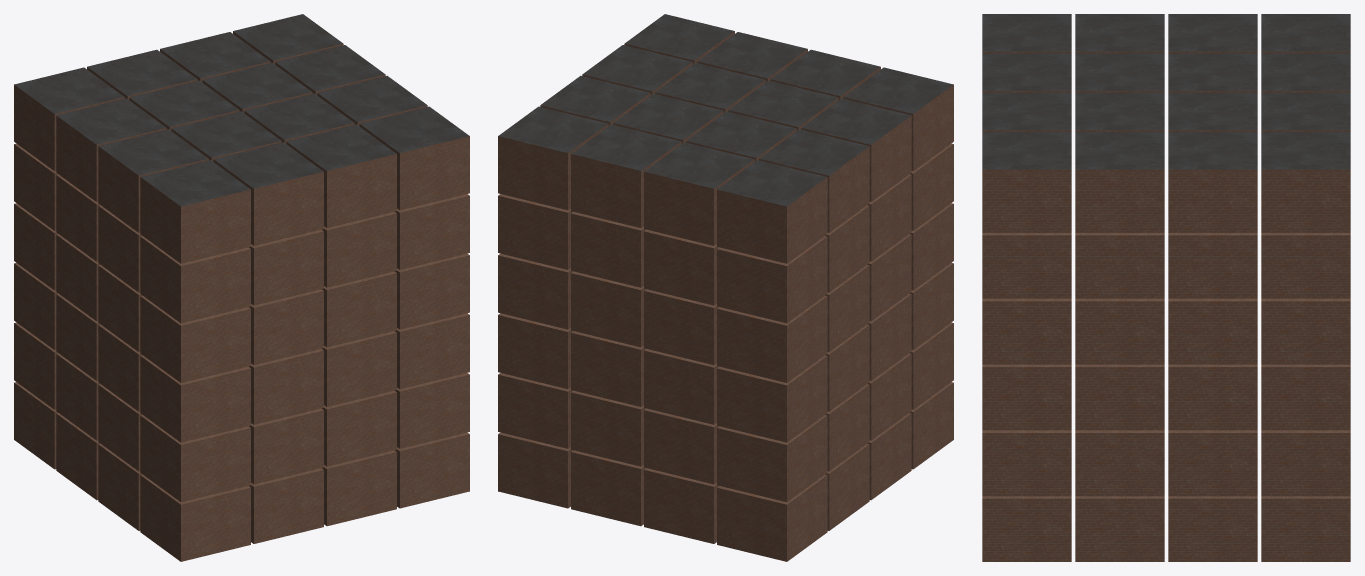
Rendered from Building_Small_1_destructible.gltf.
3 renders of one model, left to right at view 1: azimuth 30°, elevation 25°; view 2: azimuth 150°, elevation 25°; view 3: azimuth 270°, elevation 25°, orthographic. The views are drawn at different scales.
Parts seen in each view (by area): view 1: block_f5_r3_c0, block_f5_r3_c1, block_f5_r3_c2, block_f5_r3_c3, block_f4_r3_c0, block_f2_r3_c0, block_f0_r3_c0, block_f1_r3_c0, block_f3_r3_c0, block_f5_r1_c0, block_f5_r0_c0, block_f5_r2_c0 (+39 smaller); view 2: block_f5_r0_c0, block_f5_r0_c1, block_f5_r0_c2, block_f5_r0_c3, block_f4_r0_c0, block_f2_r0_c0, block_f0_r0_c0, block_f1_r0_c0, block_f3_r0_c0, block_f5_r2_c0, block_f5_r1_c0, block_f5_r3_c0 (+39 smaller); view 3: block_f5_r0_c3, block_f5_r1_c3, block_f5_r2_c3, block_f5_r3_c3, block_f1_r0_c3, block_f1_r1_c3, block_f1_r2_c3, block_f1_r3_c3, block_f2_r0_c3, block_f2_r1_c3, block_f2_r2_c3, block_f2_r3_c3 (+24 smaller).
Boxes of the visible parts, x1,y1,x2,y2 form: block_f5_r3_c0: (140,160,250,263); block_f5_r3_c1: (213,142,323,245); block_f5_r3_c2: (286,124,396,227); block_f5_r3_c3: (359,106,469,210); block_f4_r3_c0: (140,236,250,323); block_f2_r3_c0: (140,355,250,442); block_f0_r3_c0: (140,474,250,561); block_f1_r3_c0: (140,415,250,502); block_f3_r3_c0: (140,295,250,382); block_f5_r1_c0: (56,98,166,201); block_f5_r0_c0: (14,67,124,171); block_f5_r2_c0: (98,129,208,232); block_f5_r0_c0: (717,160,827,263); block_f5_r0_c1: (644,142,754,245); block_f5_r0_c2: (571,124,681,227); block_f5_r0_c3: (498,106,608,210); block_f4_r0_c0: (717,236,827,323); block_f2_r0_c0: (717,355,827,442); block_f0_r0_c0: (717,474,827,561); block_f1_r0_c0: (717,415,827,502); block_f3_r0_c0: (717,295,827,382); block_f5_r2_c0: (801,98,911,201); block_f5_r1_c0: (759,129,869,232); block_f5_r3_c0: (843,67,953,171); block_f5_r0_c3: (1261,132,1350,232); block_f5_r1_c3: (1168,132,1257,232); block_f5_r2_c3: (1075,132,1164,232); block_f5_r3_c3: (982,132,1071,232); block_f1_r0_c3: (1261,430,1350,496); block_f1_r1_c3: (1168,430,1257,496); block_f1_r2_c3: (1075,430,1164,496); block_f1_r3_c3: (982,430,1071,496); block_f2_r0_c3: (1261,364,1350,430); block_f2_r1_c3: (1168,364,1257,430); block_f2_r2_c3: (1075,364,1164,430); block_f2_r3_c3: (982,364,1071,430).
Size of the model in its own units: 8.41 by 9.89 by 8.41.
3 materials, 3 textured.
